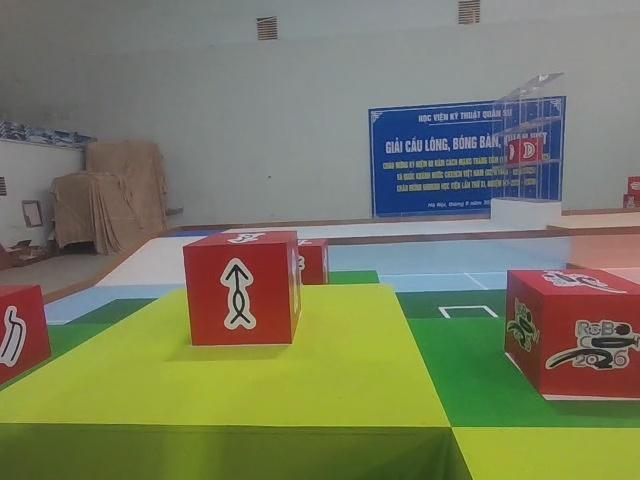R1: (505, 267, 640, 399)
R2 Real: (183, 231, 302, 348), (2, 280, 53, 387)
